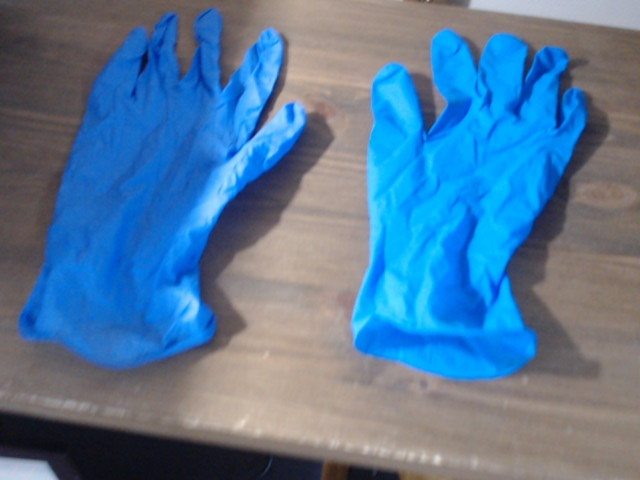medical_glove: (23, 7, 308, 366), (355, 30, 587, 379)
